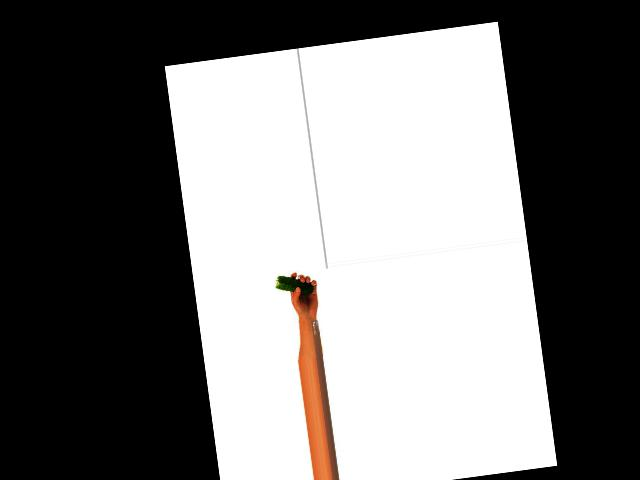cucumber: (274, 272, 315, 299)
